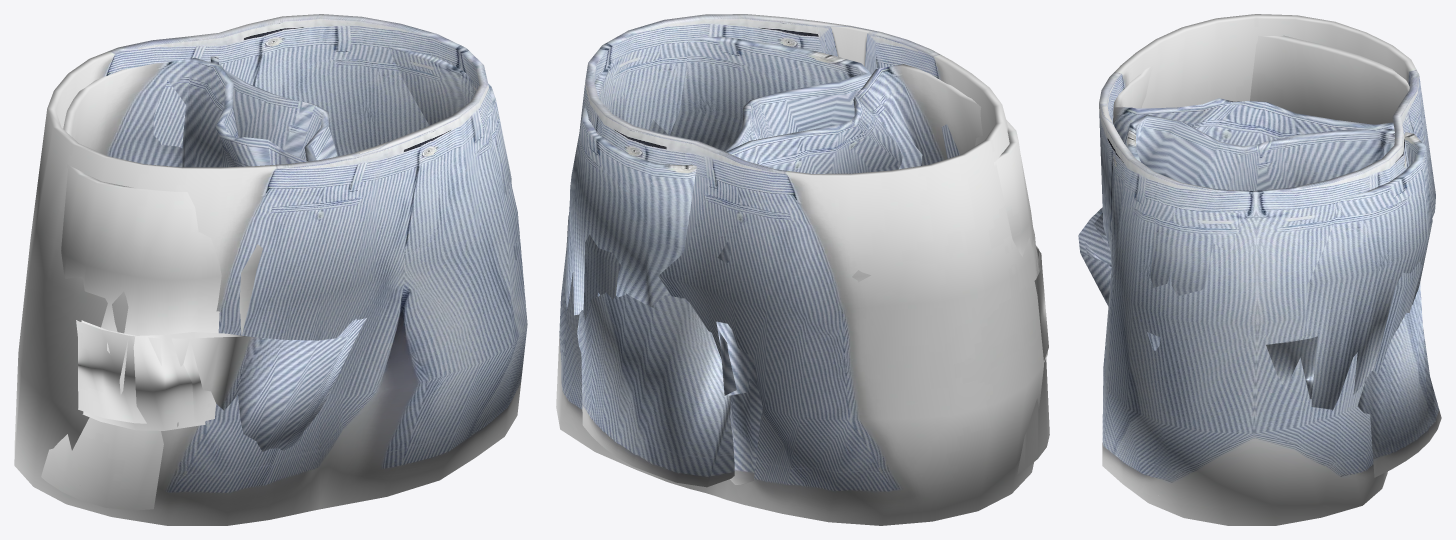
Rendered from 264d46d8-b5e3-4bdb-88a0-fe589535cce3.glb.
3 renders of one model, left to right at view 1: azimuth 30°, elevation 25°; view 2: azimuth 150°, elevation 25°; view 3: azimuth 270°, elevation 25°, orthographic. The views are drawn at different scales.
Parts seen in each view (by area): view 1: garment_leg0; view 2: garment_leg0; view 3: garment_leg0.
Part boxes in pixels (left/top/right/bottom): garment_leg0: left=14, top=14, right=527, bottom=525; garment_leg0: left=556, top=14, right=1049, bottom=525; garment_leg0: left=1078, top=14, right=1441, bottom=525.
Size of the model in its own units: 0.4227 by 0.3242 by 0.3108.
Materials: 1 (1 with a texture image).
